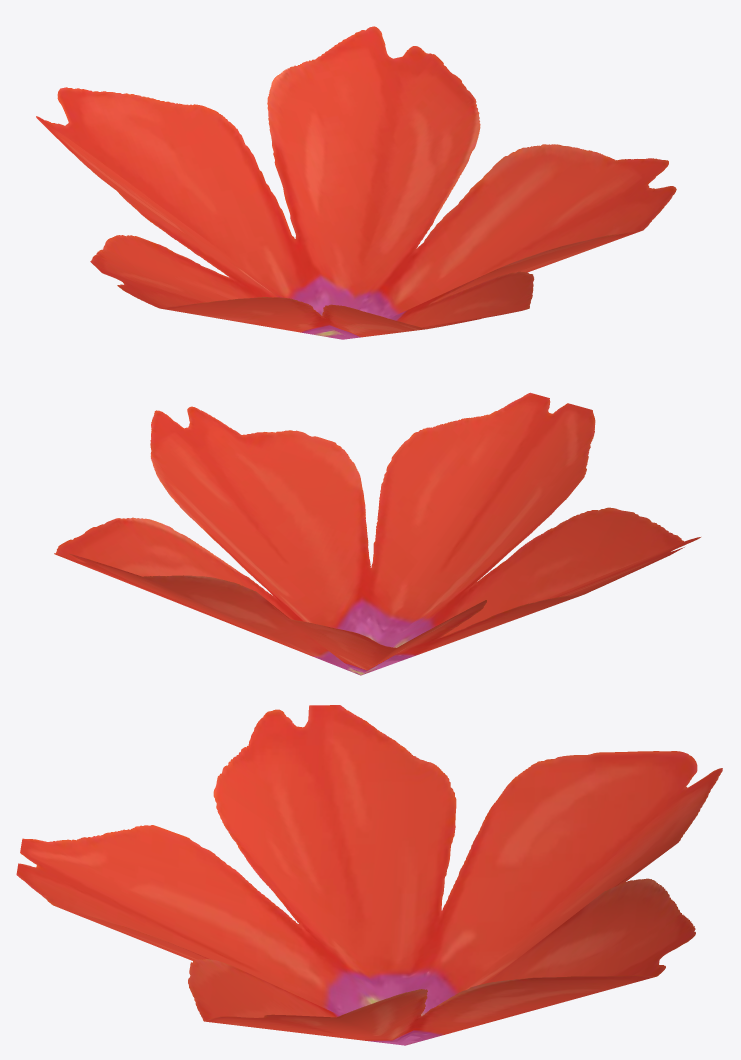
The model's file is Petal_3.glb.
The picture shows the model from 3 angles, top to bottom: view 1: azimuth 30°, elevation 25°; view 2: azimuth 150°, elevation 25°; view 3: azimuth 270°, elevation 25°; orthographic projection. The views are drawn at different scales.
Parts seen in each view (by area): view 1: Petal_3; view 2: Petal_3; view 3: Petal_3.
Boxes of the visible parts, left/top/right/bottom form: Petal_3: left=36, top=26, right=676, bottom=339; Petal_3: left=54, top=392, right=700, bottom=675; Petal_3: left=16, top=705, right=722, bottom=1045.
Size of the model in its own units: 0.6195 by 0.1895 by 0.6064.
1 material, 1 textured.
